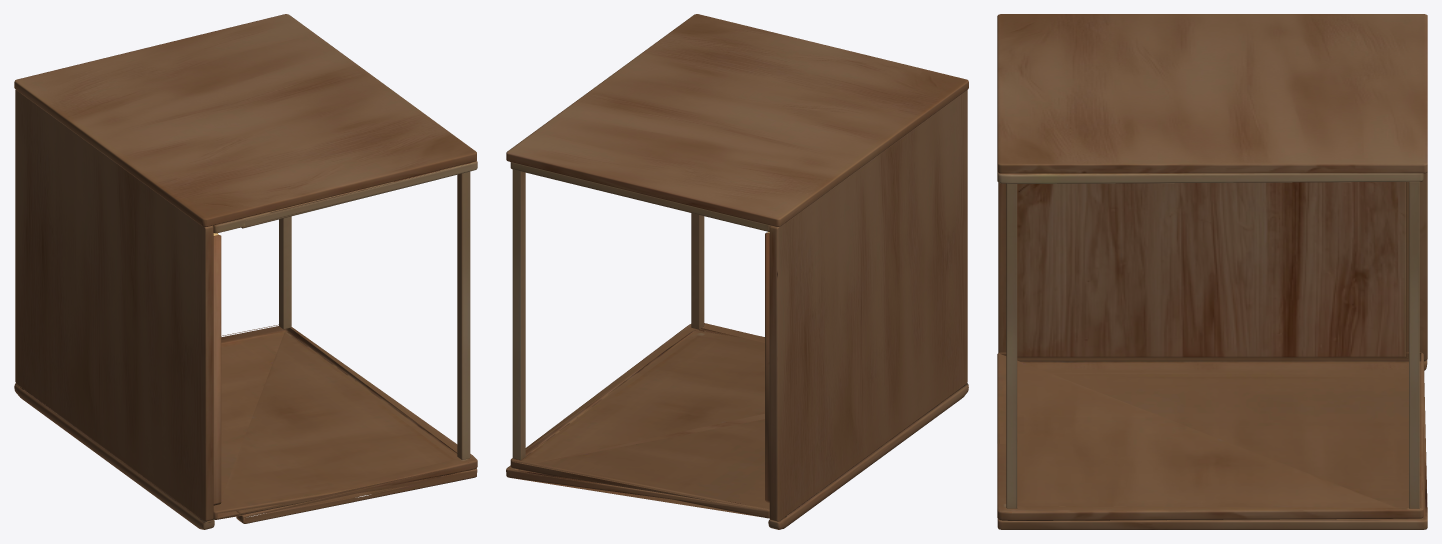
Rendered from cabinet-light.glb.
The picture shows the model from 3 angles, left to right: view 1: azimuth 30°, elevation 25°; view 2: azimuth 150°, elevation 25°; view 3: azimuth 270°, elevation 25°; orthographic projection. The views are drawn at different scales.
Visible parts, largest first — view 1: tripo_node_11925346-0f16-40bb-8a5f-7615384da20f; view 2: tripo_node_11925346-0f16-40bb-8a5f-7615384da20f; view 3: tripo_node_11925346-0f16-40bb-8a5f-7615384da20f.
Boxes of the visible parts, x1=… form: tripo_node_11925346-0f16-40bb-8a5f-7615384da20f: x1=14, y1=14, x2=477, y2=529; tripo_node_11925346-0f16-40bb-8a5f-7615384da20f: x1=506, y1=14, x2=968, y2=529; tripo_node_11925346-0f16-40bb-8a5f-7615384da20f: x1=997, y1=14, x2=1427, y2=529.
Size of the model in its own units: 0.8345 by 0.938 by 0.9995.
1 material, 1 textured.
